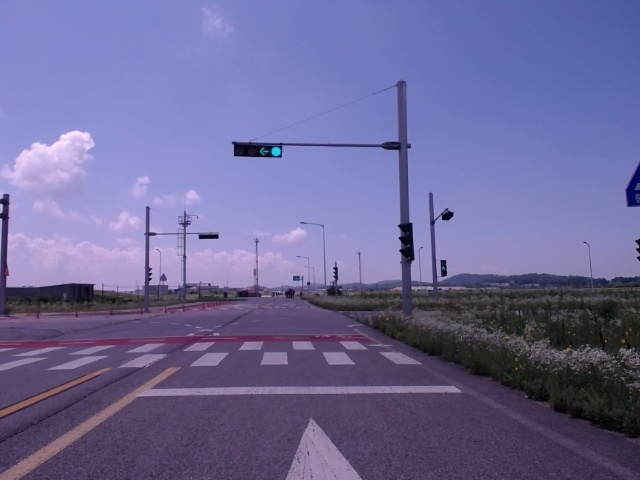all_green_4: (234, 140, 287, 160)
